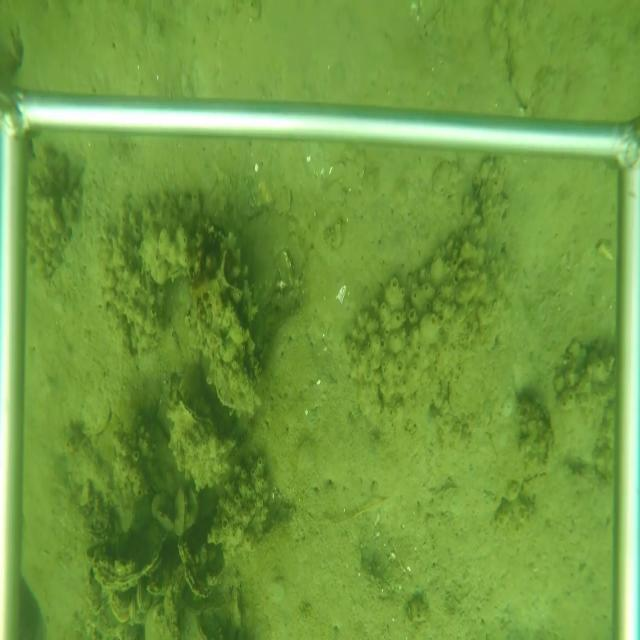Oyster-Closed: (89, 537, 168, 590), (176, 537, 217, 601), (175, 396, 220, 442), (148, 509, 176, 533), (135, 585, 149, 618)
Oyster-Indeterminate: (173, 486, 187, 539), (189, 485, 204, 520)
